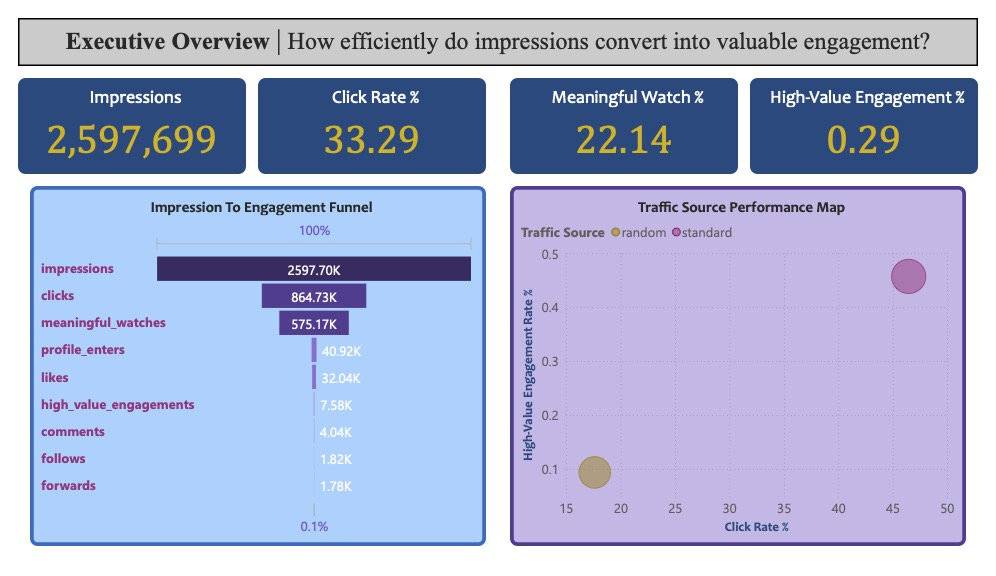

The page's visual inventory and layout, read from the dashboard file:
{"tool":"powerbi","page":{"name":"Executive Overview","canvas":[1280,720],"ordinal":0},"visuals":[{"type":"kpi","title":"Click Rate %","fields":{"TrendLine":["overall_funnel_summary.funnel_stage"],"Indicator":["Avg(overall_funnel_summary.rate_from_impressions_percent)"]},"box":[320,80,304,128],"z":0},{"type":"kpi","title":"Impressions","fields":{"TrendLine":["overall_funnel_summary.funnel_stage"],"Indicator":["Sum(overall_funnel_summary.event_count)"]},"box":[0,80,304,128],"z":1000},{"type":"kpi","title":"Meaningful Watch %","fields":{"TrendLine":["overall_funnel_summary.funnel_stage"],"Indicator":["Avg(overall_funnel_summary.rate_from_impressions_percent)"]},"box":[656,80,304,128],"z":2000},{"type":"kpi","title":"High-Value Engagement %","fields":{"Indicator":["Avg(overall_funnel_summary.rate_from_impressions_percent)"],"TrendLine":["overall_funnel_summary.funnel_stage"]},"box":[976,80,304,128],"z":3000},{"type":"funnel","title":"Impression To Engagement Funnel","fields":{"Category":["overall_funnel_summary.funnel_stage"],"Y":["Sum(overall_funnel_summary.event_count)"]},"box":[16,224,608,480],"z":4000},{"type":"scatterChart","title":"Traffic Source Performance Map","fields":{"X":["traffic_source_funnel_summary.click_rate_percent"],"Size":["Sum(traffic_source_funnel_summary.impression_count)"],"Series":["traffic_source_funnel_summary.traffic_source"],"Y":["traffic_source_funnel_summary.high_value_engagement_rate_percent"]},"box":[656,224,608,480],"z":5000},{"type":"textbox","box":[0,0,1280,64],"z":6000}]}

Visuals, with their boxes in screenshot pixels (x1, y1, x2, y2), scaled from the page's 1280x720 canvas onto the 996x576 screenshot:
"Click Rate %" kpi: rect(249, 64, 486, 166)
"Impressions" kpi: rect(0, 64, 237, 166)
"Meaningful Watch %" kpi: rect(510, 64, 747, 166)
"High-Value Engagement %" kpi: rect(759, 64, 995, 166)
"Impression To Engagement Funnel" funnel: rect(12, 179, 486, 563)
"Traffic Source Performance Map" scatterChart: rect(510, 179, 984, 563)
textbox: rect(0, 0, 995, 51)
